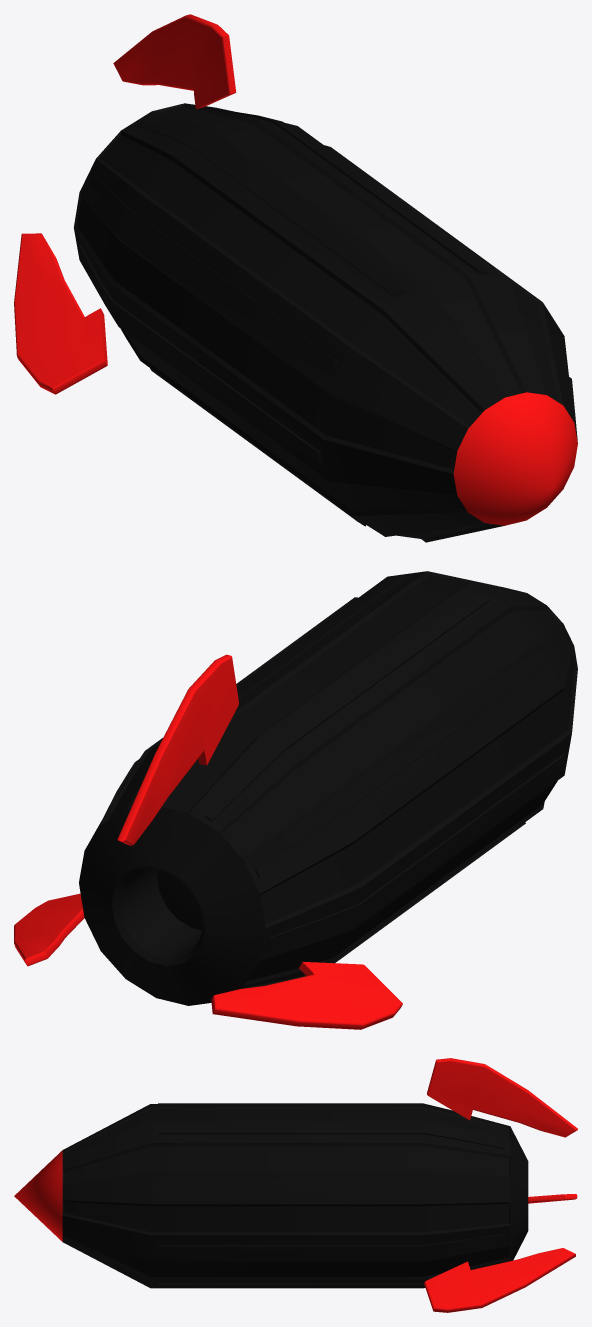
Rendered from Rocket_with_animation.FBX.
3 views of the same model, one above another, from view 1: azimuth 30°, elevation 25°; view 2: azimuth 150°, elevation 25°; view 3: azimuth 270°, elevation 25° (orthographic). The views are drawn at different scales.
Visible parts, largest first — view 1: Rocket, Rocket_Tip, Rocket_Guide3, Rocket_Guide1; view 2: Rocket, Rocket_Guide3, Rocket_Guide1, Rocket_Guide2; view 3: Rocket, Rocket_Guide1, Rocket_Guide2, Rocket_Tip, Rocket_Guide3.
Part boxes in pixels (<box>): Rocket: <box>73,103,577,542</box>; Rocket_Tip: <box>453,392,577,525</box>; Rocket_Guide3: <box>14,233,107,394</box>; Rocket_Guide1: <box>113,14,236,108</box>; Rocket: <box>79,571,577,1005</box>; Rocket_Guide3: <box>211,961,402,1029</box>; Rocket_Guide1: <box>117,654,238,845</box>; Rocket_Guide2: <box>14,893,84,966</box>; Rocket: <box>62,1103,528,1288</box>; Rocket_Guide1: <box>427,1058,577,1137</box>; Rocket_Guide2: <box>424,1248,575,1312</box>; Rocket_Tip: <box>14,1150,62,1241</box>; Rocket_Guide3: <box>528,1194,577,1203</box>.
Bounding box in the file's own units: 21.57 × 19.39 × 44.76.
